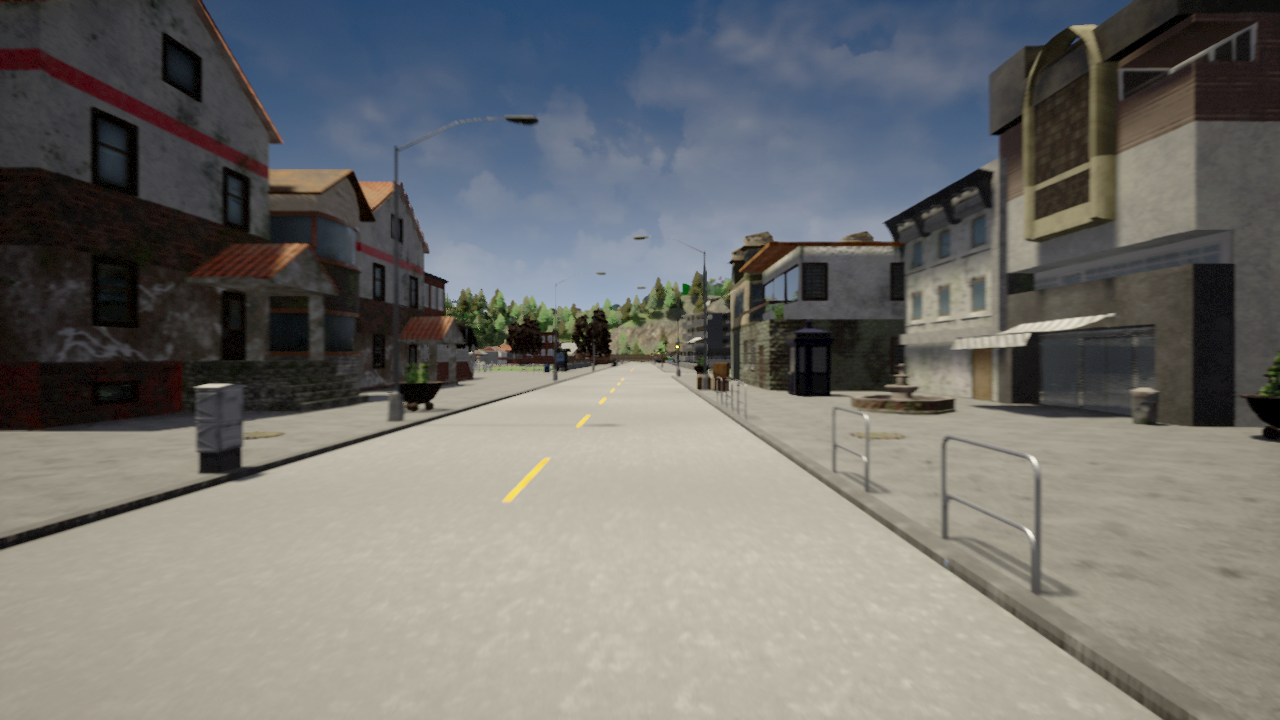yellow: (674, 342, 679, 353)
